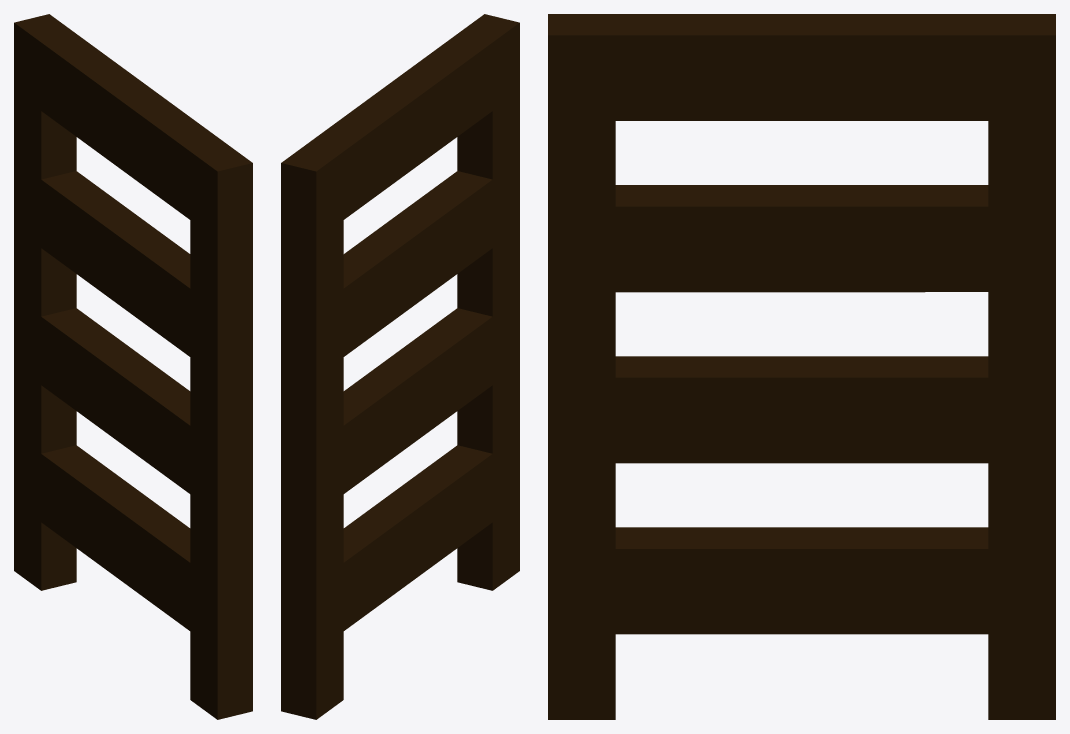
3 views of the same model, side by side, from view 1: azimuth 30°, elevation 25°; view 2: azimuth 150°, elevation 25°; view 3: azimuth 270°, elevation 25° (orthographic). The views are drawn at different scales.
Visible parts, largest first — view 1: Ladder.002; view 2: Ladder.002; view 3: Ladder.002.
Boxes of the visible parts, box(x1,y1,x2,y2) form: Ladder.002: box(14, 14, 252, 719); Ladder.002: box(281, 14, 519, 719); Ladder.002: box(548, 14, 1055, 719).
Size of the model in its own units: 0.2001 by 2.97 by 2.
Materials: 1 (1 with a texture image).
